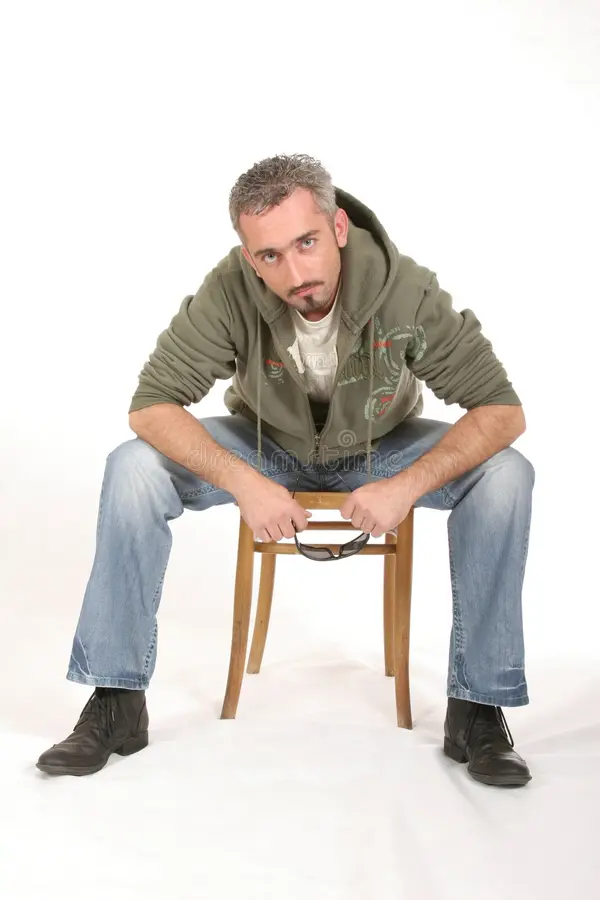Focused: (196, 124, 404, 391)
